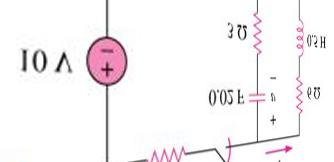inductor: (287, 12, 308, 59)
